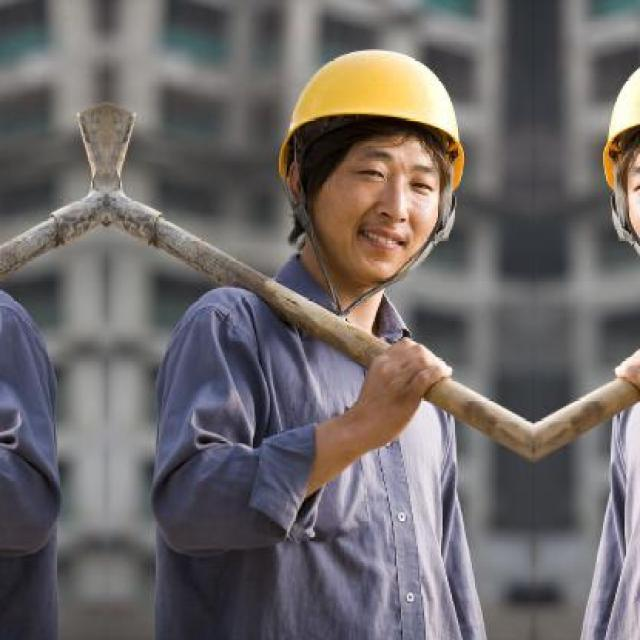safetyhelmet: (276, 49, 470, 235)
